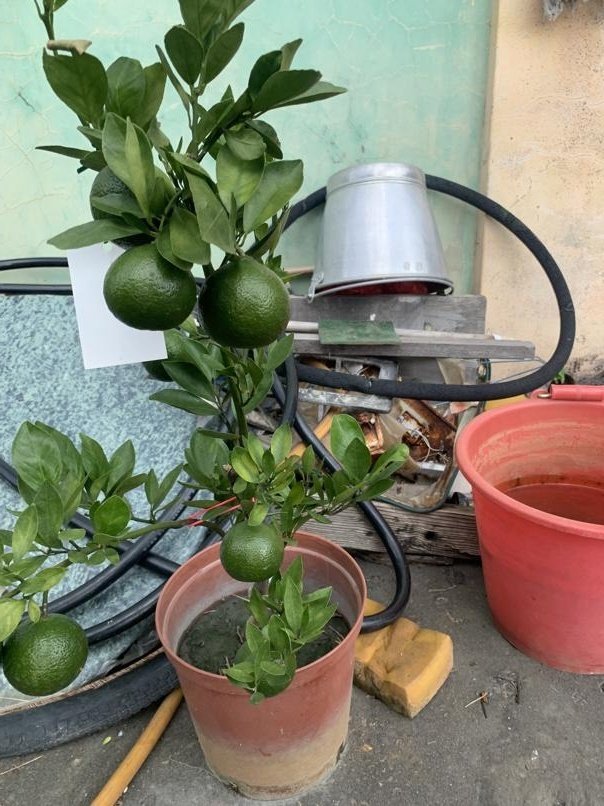Tangerine: (101, 239, 197, 331), (196, 258, 293, 349), (1, 609, 92, 695), (221, 521, 287, 584)
